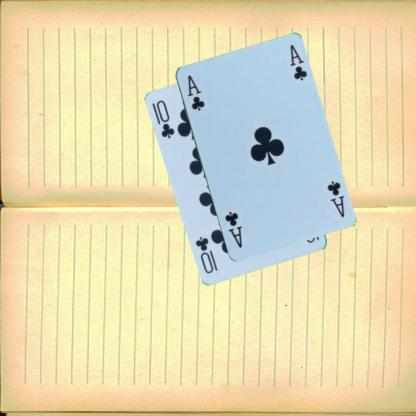10c: (154, 98, 176, 140)
Ac: (324, 178, 346, 219), (184, 72, 206, 112)
